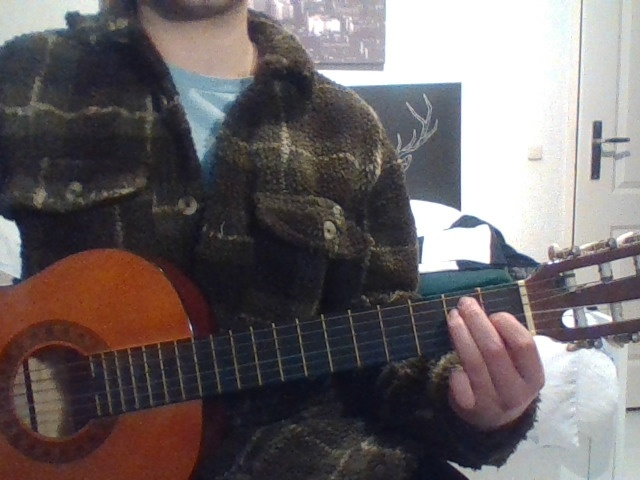E: (425, 266, 580, 441)
